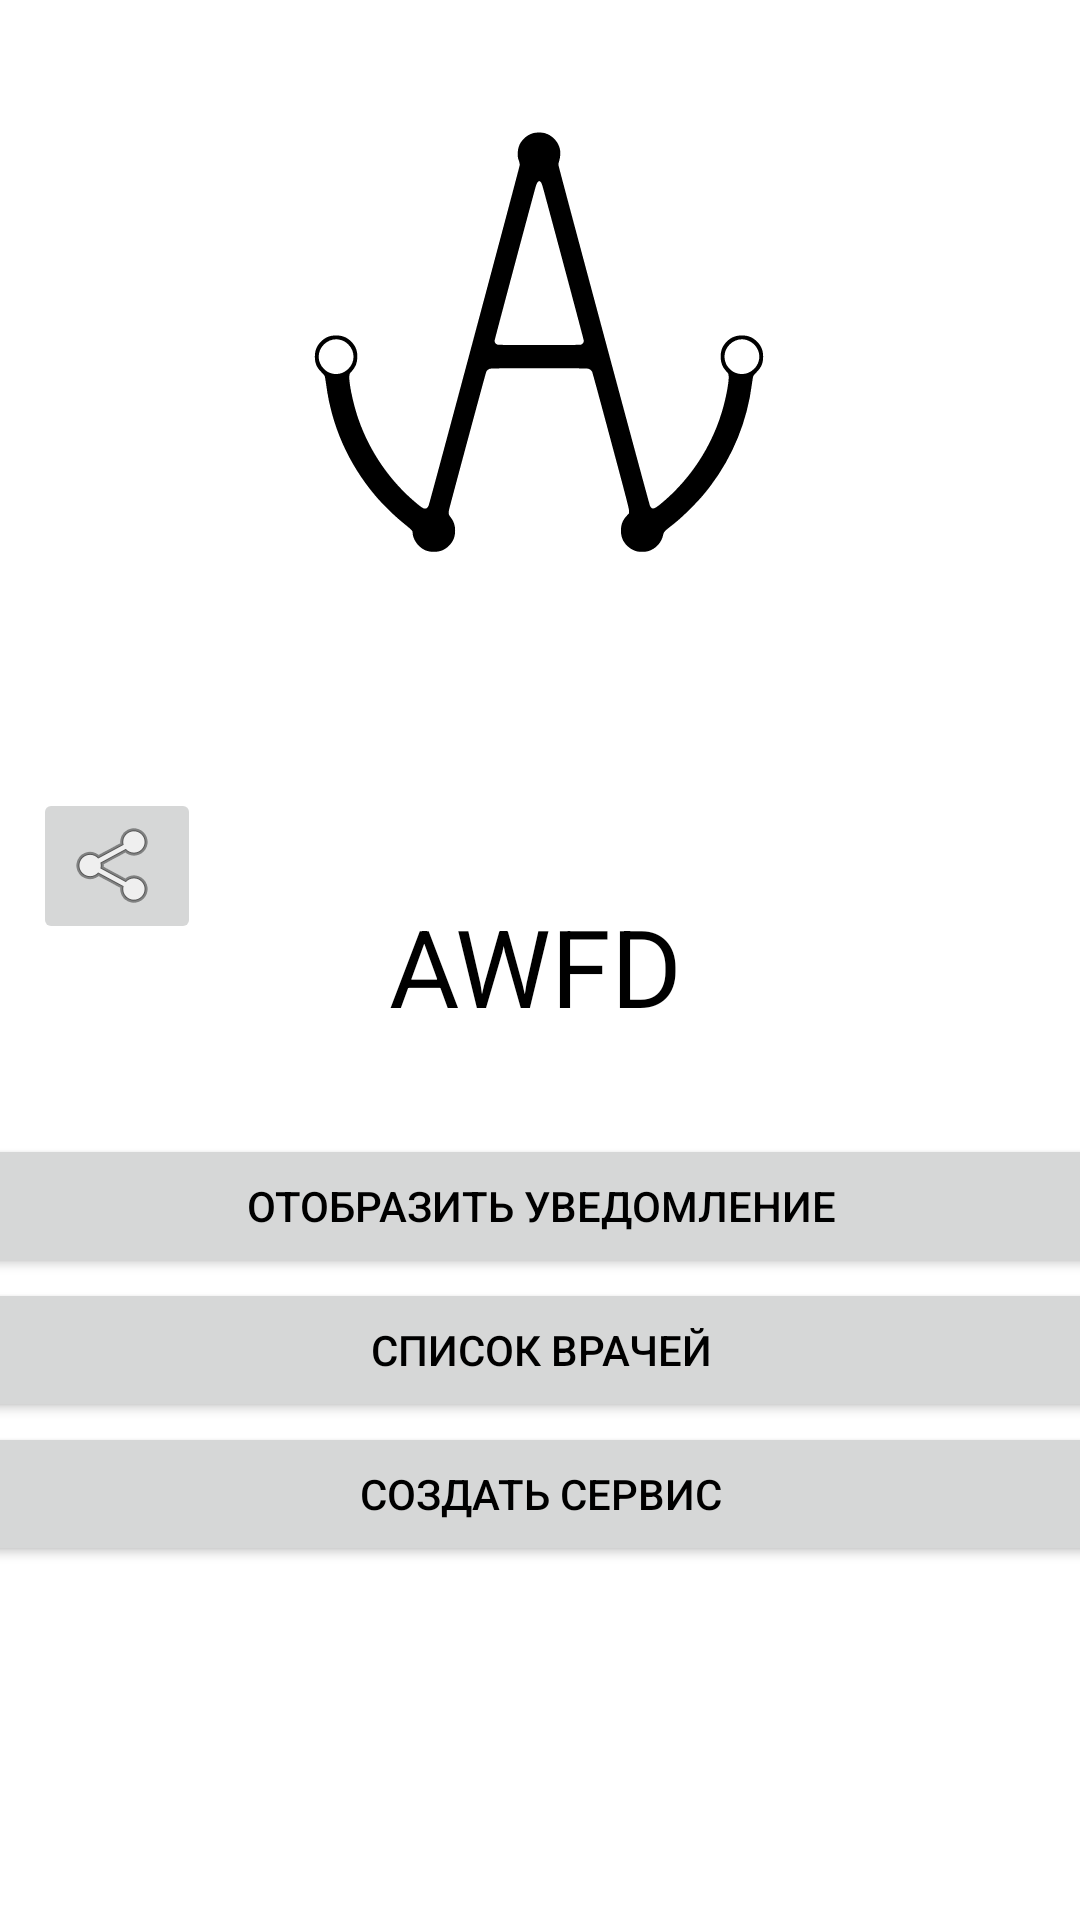

Named icons in this screenshot (1080*1920) and their bounding boxes, (x1,y1,x2,y2):
Button to share: (45,806,189,926)
